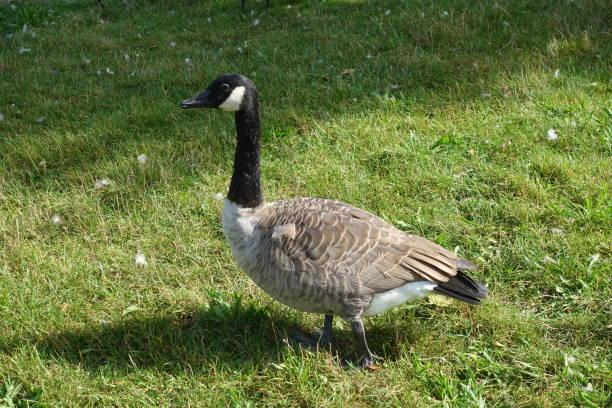Canadian-Goose: (180, 70, 483, 361)
